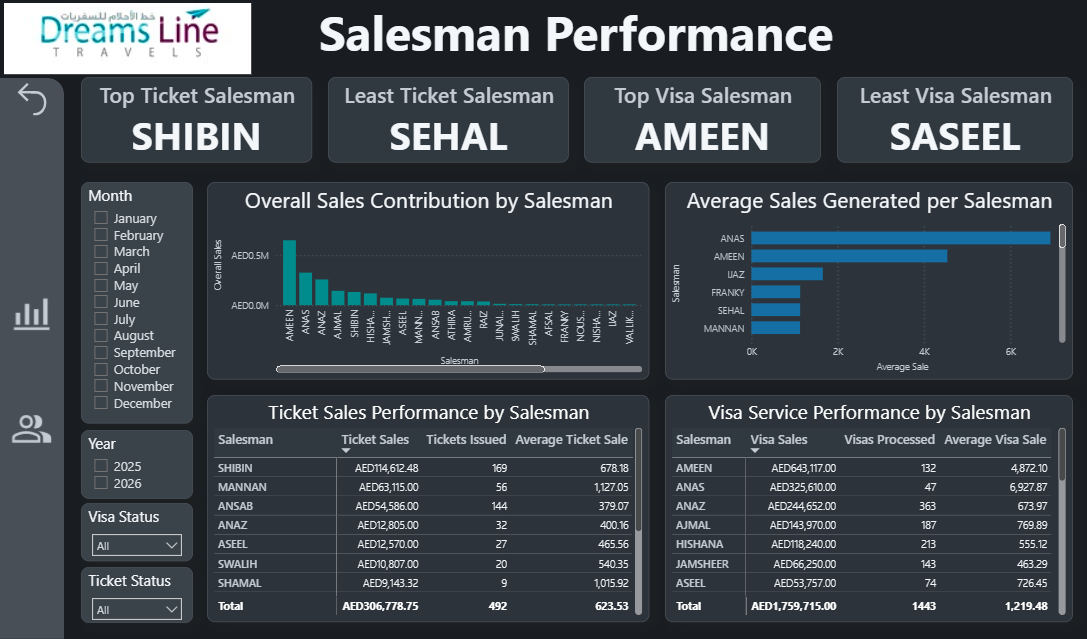

Layout of this report page (visuals, bound fields, positions):
{"tool":"powerbi","page":{"name":"Salesman Performance","canvas":[1360,800],"ordinal":1},"visuals":[{"type":"shape","box":[0,98.8,80,701.2],"z":0,"group":"g1"},{"type":"pivotTable","title":"Ticket Sales Performance by Salesman","fields":{"Rows":["Tickets.Salesman"],"Values":["Measure Table.Total Ticket Sales","Measure Table.Total Tickets Issued","Measure Table.Average Ticket Sale"]},"box":[259.4,495.1,553,284.3],"z":0},{"type":"shape","box":[101.2,0,1237.5,80],"z":1000},{"type":"actionButton","box":[0,98.8,80,52.6],"z":1000,"group":"g1"},{"type":"pivotTable","title":"Visa Service Performance by Salesman","fields":{"Rows":["Visa.Salesman"],"Values":["Measure Table.Total Visa Sales","Measure Table.Total Visas Processed","Measure Table.Average Visa Sale"]},"box":[831.7,495.1,509.6,284.3],"z":1000},{"type":"group","id":"g1","title":"Group 2","box":[0,98.8,80,701.2],"z":2000},{"type":"clusteredColumnChart","title":"Overall Sales Contribution by Salesman","fields":{"Category":["Salesman_List.Salesman"],"Y":["Measure Table.Overall Sales"]},"box":[259.4,228.8,553,247],"z":2000},{"type":"image","box":[0,0,318.8,98.8],"z":3000},{"type":"clusteredBarChart","title":"Average Sales Generated per Salesman","fields":{"Y":["Measure Table.Average Sale"],"Category":["Salesman_List.Salesman"]},"box":[831.7,228.8,509.6,247],"z":3000},{"type":"actionButton","box":[0,364.1,80,61.2],"z":3000,"group":"g1"},{"type":"slicer","title":"Month","fields":{"Values":["Date_Table.Month"]},"box":[101.6,228.8,139.8,302.4],"z":4000},{"type":"actionButton","box":[0,506.6,80,61.2],"z":4000,"group":"g1"},{"type":"slicer","title":"Year","fields":{"Values":["Date_Table.Year"]},"box":[101.6,538.5,139.8,85.5],"z":5000},{"type":"card","title":"Top Ticket Salesman","fields":{"Values":["Min(Tickets.Salesman)"]},"box":[101.6,97.5,289.2,107.2],"z":6000},{"type":"card","title":"Least Ticket Salesman","fields":{"Values":["Min(Tickets.Salesman)"]},"box":[410,97.5,301.2,107.2],"z":7000},{"type":"card","title":"Top Visa Salesman","fields":{"Values":["Min(Visa.Salesman)"]},"box":[730.5,97.5,296.4,107.2],"z":8000},{"type":"card","title":"Least Visa Salesman","fields":{"Values":["Min(Visa.Salesman)"]},"box":[1046.2,97.5,295.2,107.2],"z":9000},{"type":"slicer","title":"Visa Status","fields":{"Values":["Visa.Status"]},"box":[101.6,630,139.8,73.5],"z":10000},{"type":"slicer","title":"Ticket Status","fields":{"Values":["Tickets.Status"]},"box":[101.6,709.5,139.8,69.9],"z":11000}]}

Visuals, with their boxes in screenshot pixels (x1, y1, x2, y2), scaled from the page's 1360x800 canvas onto the 1087x639 screenshot:
shape: x1=0, y1=79, x2=64, y2=638
"Ticket Sales Performance by Salesman" pivotTable: x1=207, y1=395, x2=649, y2=623
shape: x1=81, y1=0, x2=1070, y2=64
actionButton: x1=0, y1=79, x2=64, y2=121
"Visa Service Performance by Salesman" pivotTable: x1=665, y1=395, x2=1072, y2=623
"Group 2" group: x1=0, y1=79, x2=64, y2=638
"Overall Sales Contribution by Salesman" clusteredColumnChart: x1=207, y1=183, x2=649, y2=380
image: x1=0, y1=0, x2=255, y2=79
"Average Sales Generated per Salesman" clusteredBarChart: x1=665, y1=183, x2=1072, y2=380
actionButton: x1=0, y1=291, x2=64, y2=340
"Month" slicer: x1=81, y1=183, x2=193, y2=424
actionButton: x1=0, y1=405, x2=64, y2=454
"Year" slicer: x1=81, y1=430, x2=193, y2=498
"Top Ticket Salesman" card: x1=81, y1=78, x2=312, y2=164
"Least Ticket Salesman" card: x1=328, y1=78, x2=568, y2=164
"Top Visa Salesman" card: x1=584, y1=78, x2=821, y2=164
"Least Visa Salesman" card: x1=836, y1=78, x2=1072, y2=164
"Visa Status" slicer: x1=81, y1=503, x2=193, y2=562
"Ticket Status" slicer: x1=81, y1=567, x2=193, y2=623
